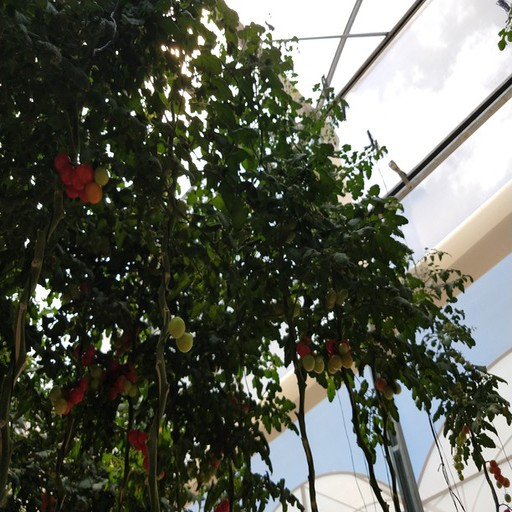green tomato bunch: (453, 428, 472, 482)
mixed tomato bunch: (70, 340, 141, 397), (55, 154, 113, 203), (296, 337, 354, 372), (127, 431, 165, 479), (48, 376, 89, 414), (324, 287, 348, 309)
red tomato bunch: (487, 460, 512, 489)
